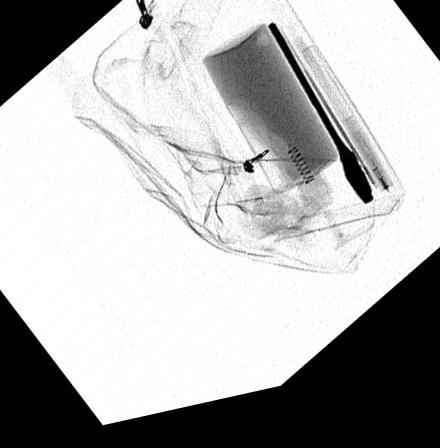Wrench: (266, 30, 376, 221)
